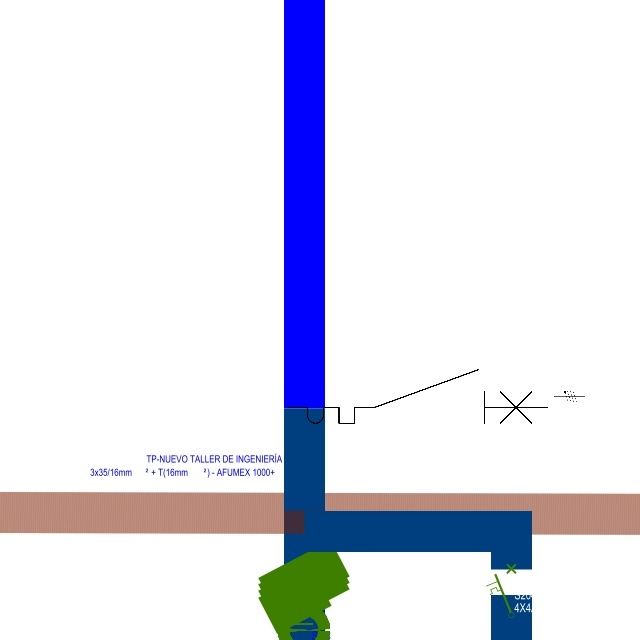interruptor_termomagnetico: (281, 363, 554, 430)
